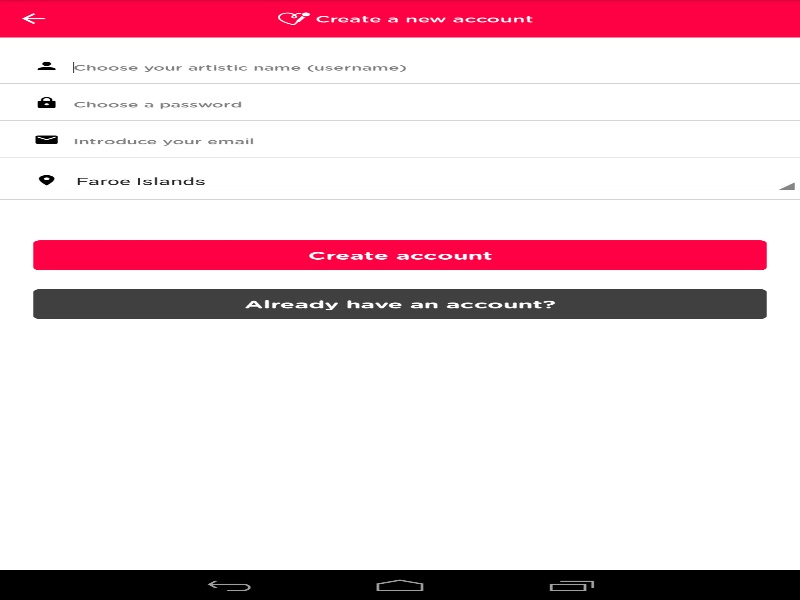Button: (33, 240, 766, 270), (33, 289, 766, 319)
Input: (60, 61, 800, 73), (60, 98, 800, 109), (60, 135, 800, 146)
